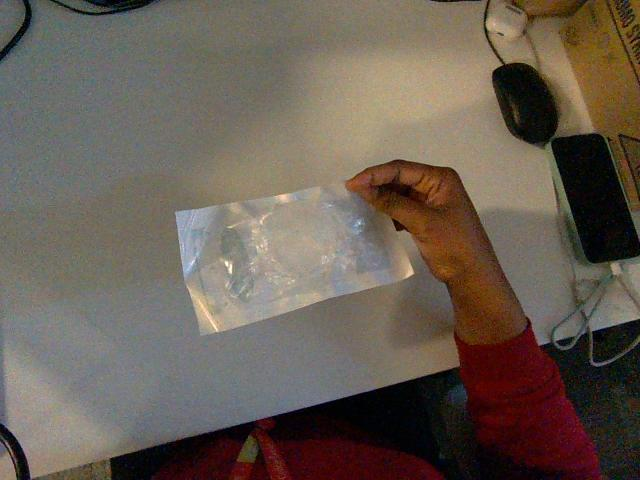gallipot: (176, 183, 412, 334)
